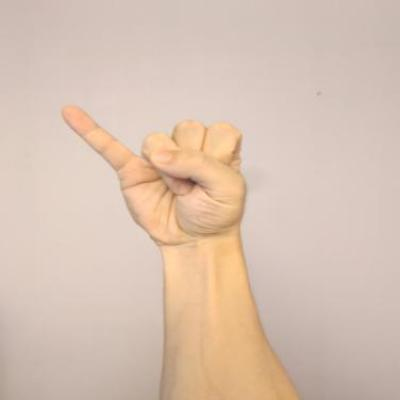hand: (57, 96, 256, 250)
